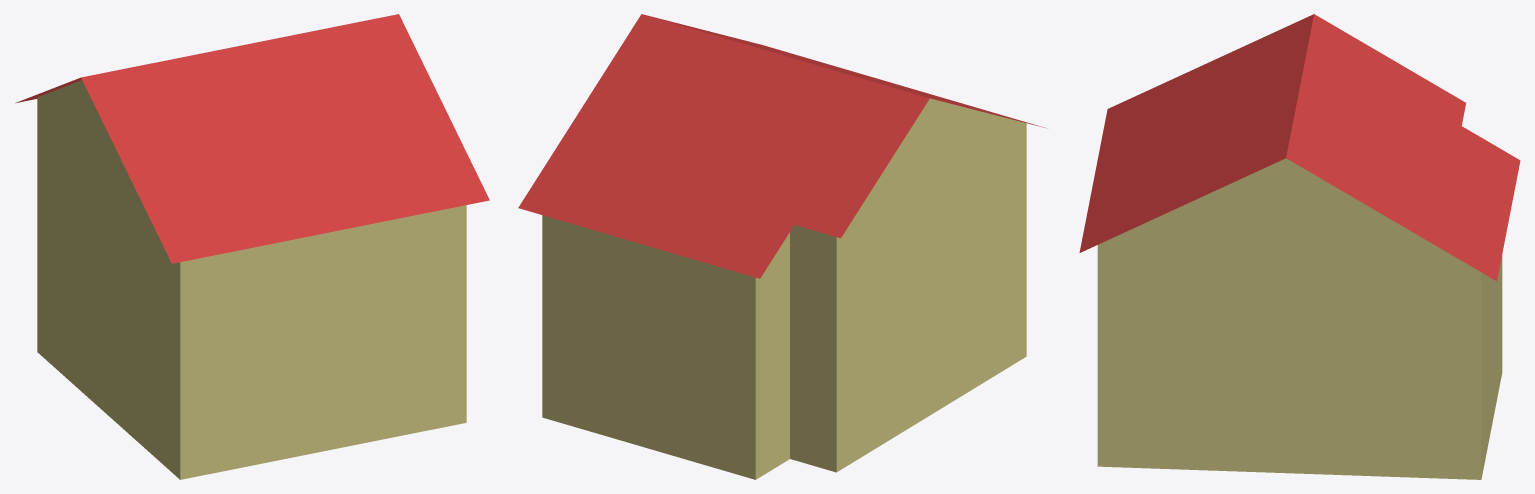
The picture shows the model from 3 angles, left to right: view 1: azimuth 30°, elevation 25°; view 2: azimuth 150°, elevation 25°; view 3: azimuth 270°, elevation 25°; orthographic projection. The views are drawn at different scales.
Size of the model in its own units: 11.05 by 12.97 by 10.46.
